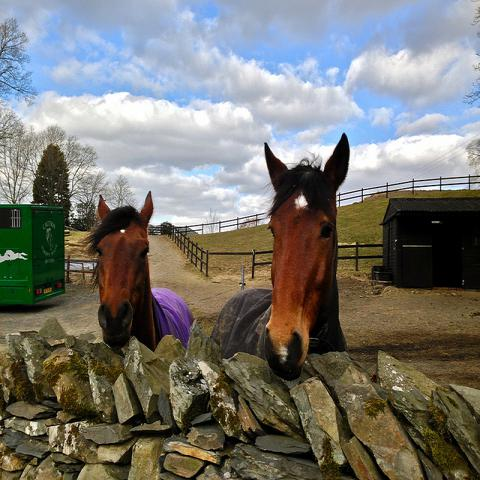truck: (0, 204, 65, 307)
